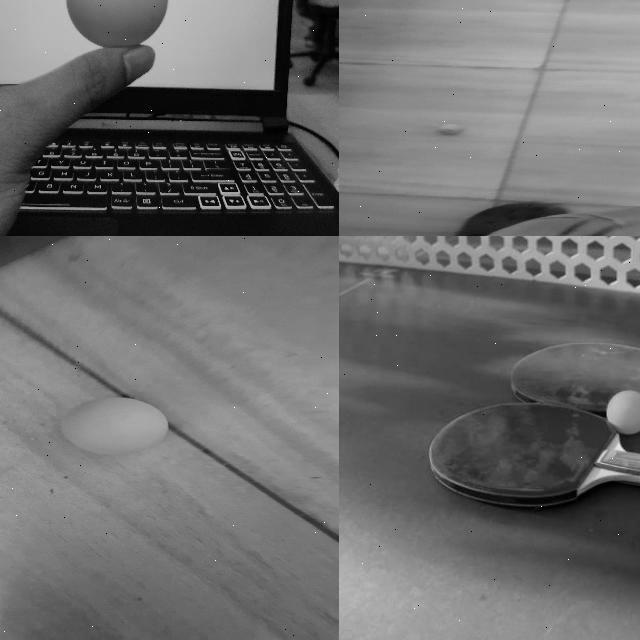ping-pong-ball: (62, 396, 166, 453), (65, 0, 167, 50), (607, 391, 639, 436), (436, 123, 462, 134)
